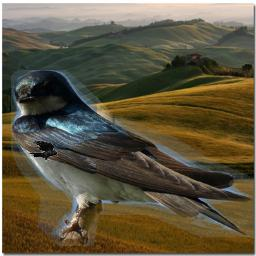Crow: (28, 140, 58, 162)
Swallow: (11, 70, 254, 246)
